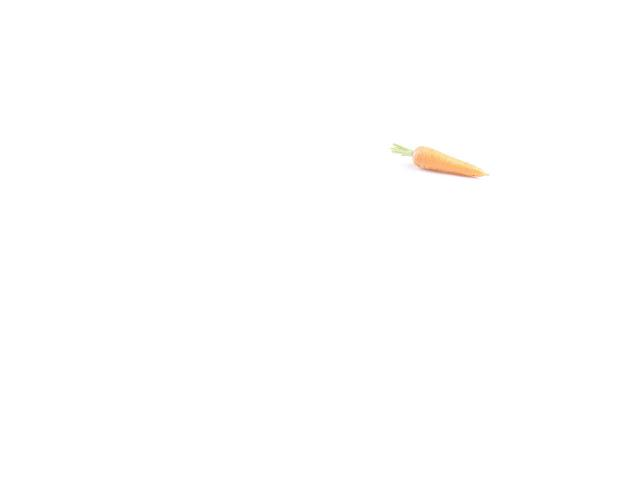carrot: (404, 137, 492, 185)
